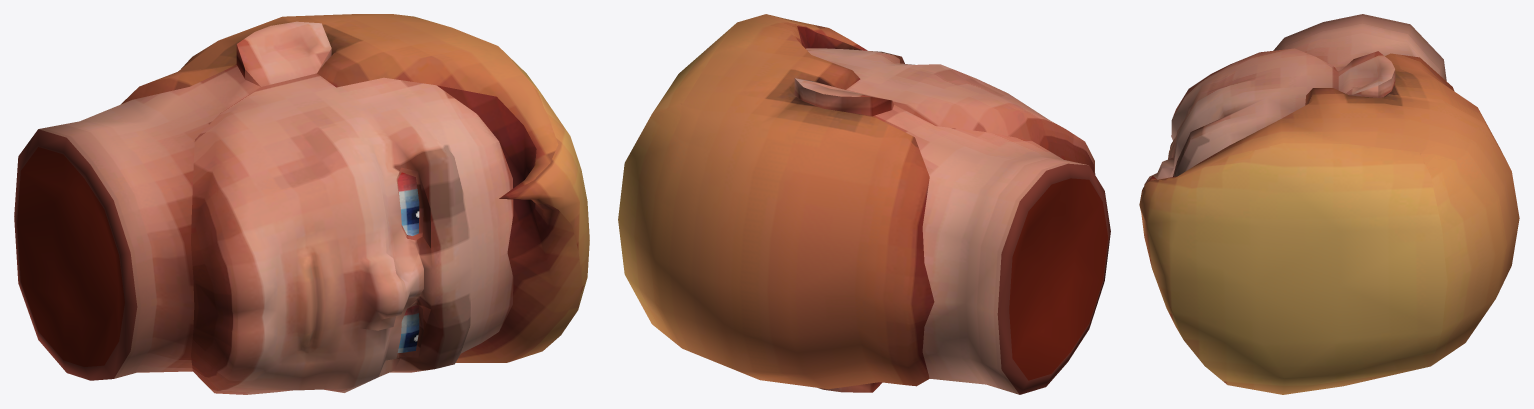
File: BJBlazkowicz.fbx
3 renders of one model, left to right at view 1: azimuth 30°, elevation 25°; view 2: azimuth 150°, elevation 25°; view 3: azimuth 270°, elevation 25°, orthographic. The views are drawn at different scales.
Visible parts, largest first — view 1: Mesh_0055.rip; view 2: Mesh_0055.rip; view 3: Mesh_0055.rip.
Part boxes in pixels (x1,y1,x2,y2): Mesh_0055.rip: (14,14,589,394); Mesh_0055.rip: (618,14,1110,394); Mesh_0055.rip: (1139,14,1519,394).
Bounding box in the file's own units: 0.2186 × 0.1554 × 0.1991.
